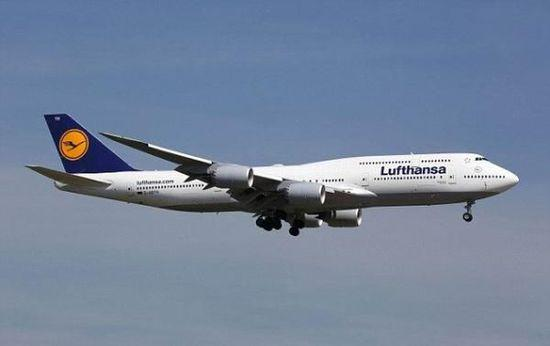airplane: (20, 110, 522, 238)
